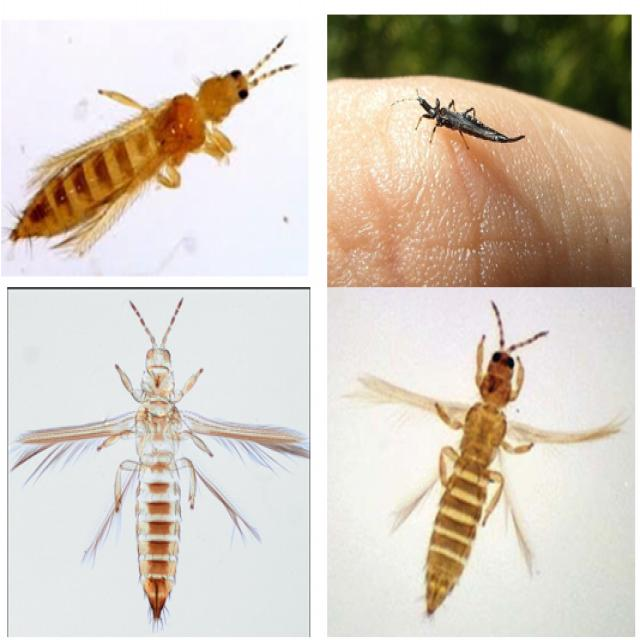Thrip-Adult-: (384, 83, 538, 160)
